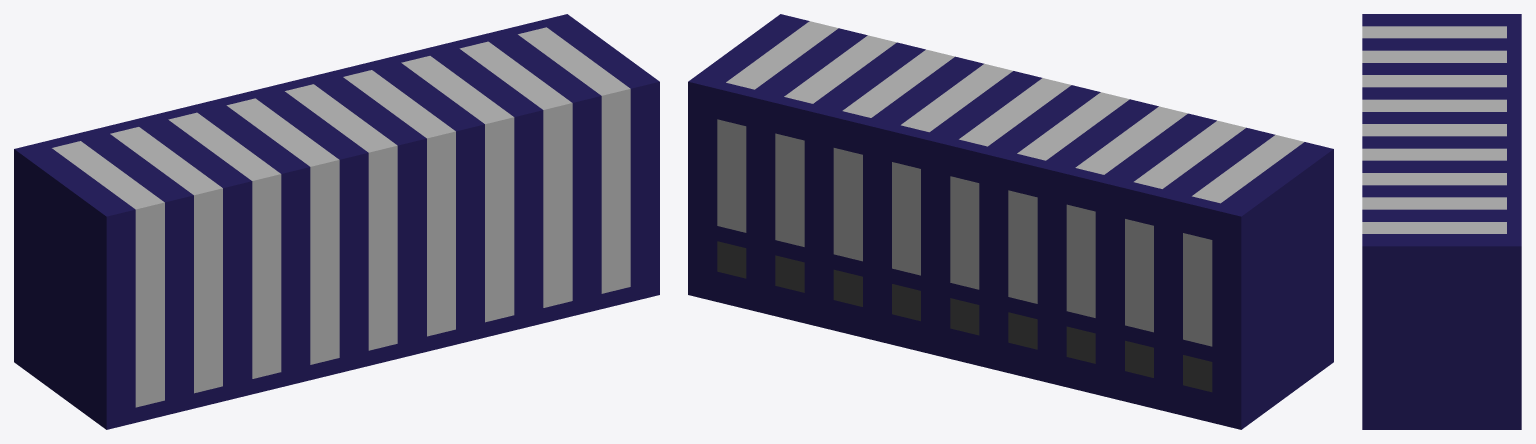
File: files_box_01.glb
3 views of the same model, side by side, from view 1: azimuth 30°, elevation 25°; view 2: azimuth 150°, elevation 25°; view 3: azimuth 270°, elevation 25° (orthographic). The views are drawn at different scales.
Visible parts, largest first — view 1: Untitled; view 2: Untitled; view 3: Untitled.
Boxes of the visible parts, x1=… form: Untitled: x1=14, y1=14, x2=659, y2=429; Untitled: x1=688, y1=14, x2=1333, y2=429; Untitled: x1=1362, y1=14, x2=1521, y2=429.
Size of the model in its own units: 1.14 by 0.42 by 0.33.
1 material, 1 textured.
